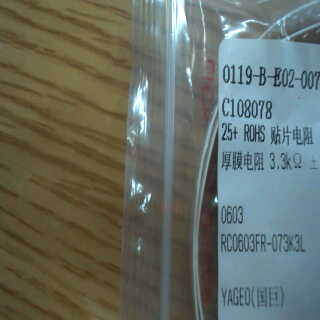3.3kO: (266, 148, 306, 175)
